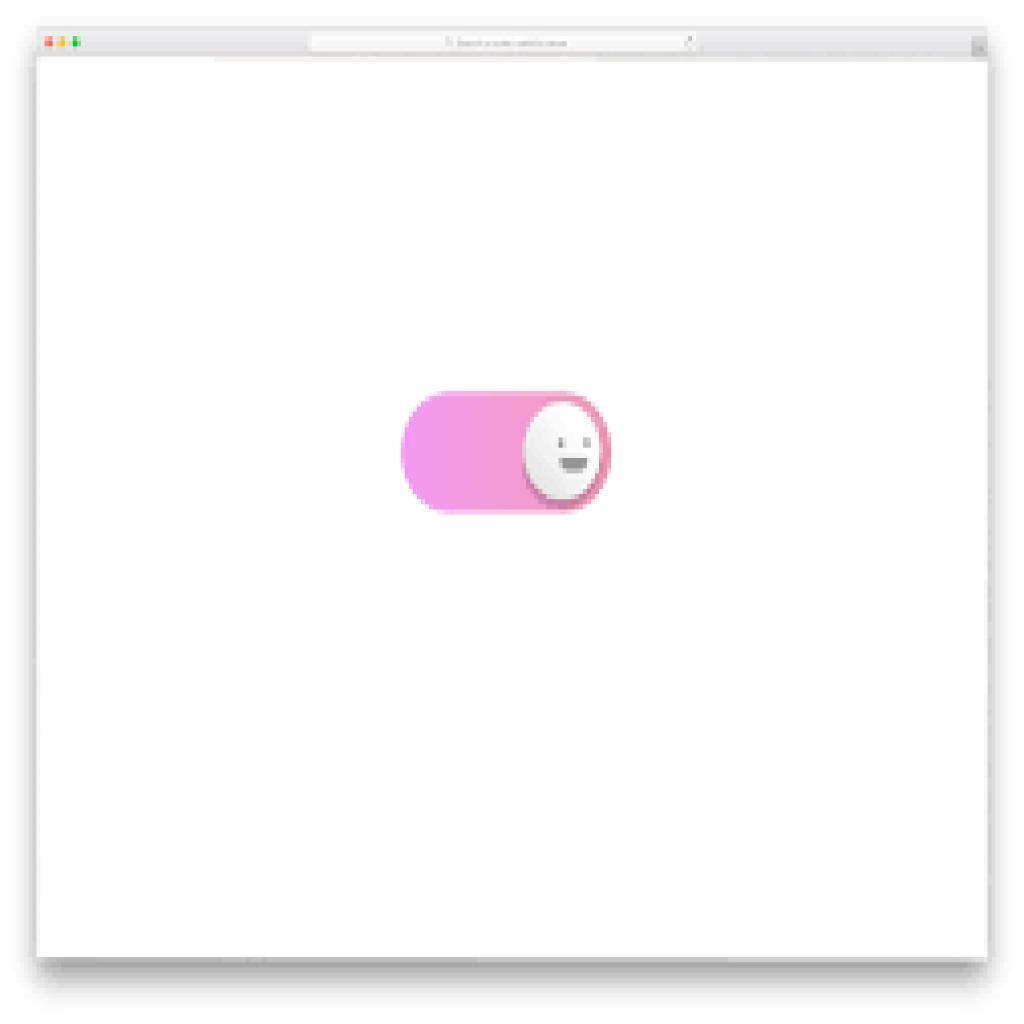switch: (400, 390, 614, 519)
